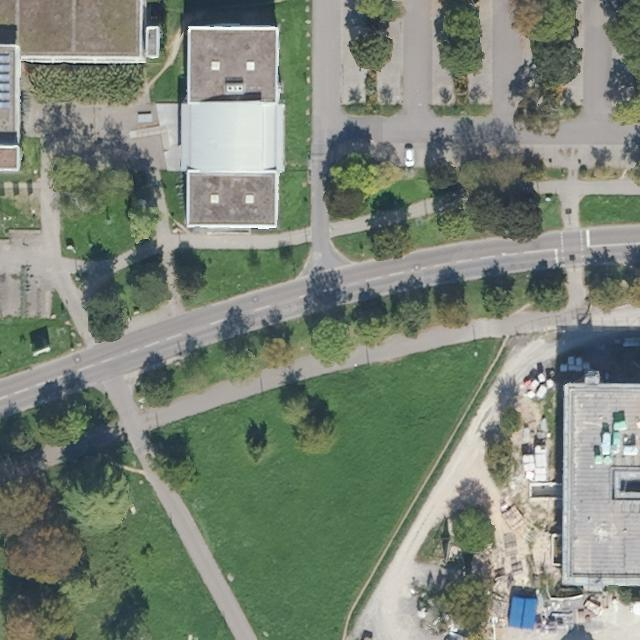PV: (0, 51, 13, 109)
